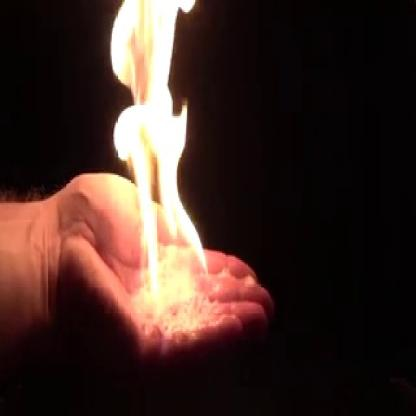fire: (105, 0, 211, 307)
